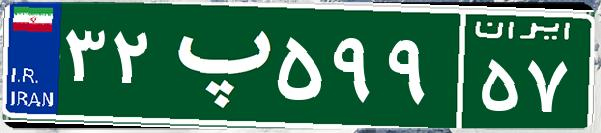2: (110, 28, 158, 105)
3: (57, 26, 110, 107)
5: (273, 28, 330, 110), (475, 38, 525, 113)
7: (525, 38, 570, 115)
9: (385, 28, 445, 110), (330, 28, 385, 110)
پ: (158, 15, 273, 115)
